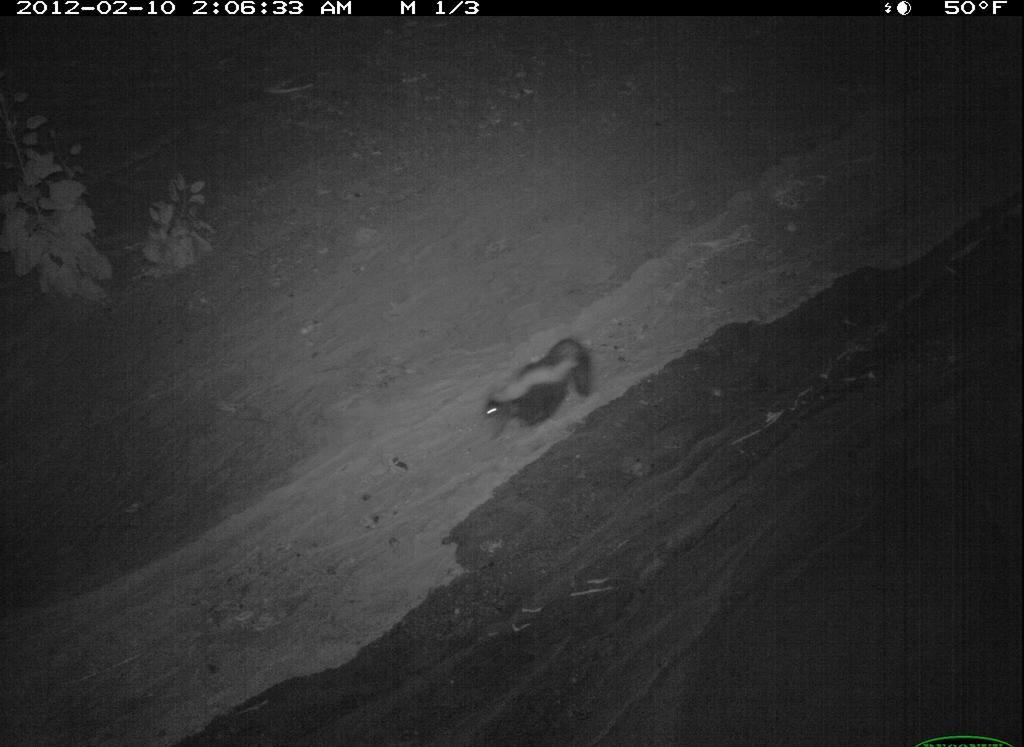skunk: (946, 669, 1024, 747)
